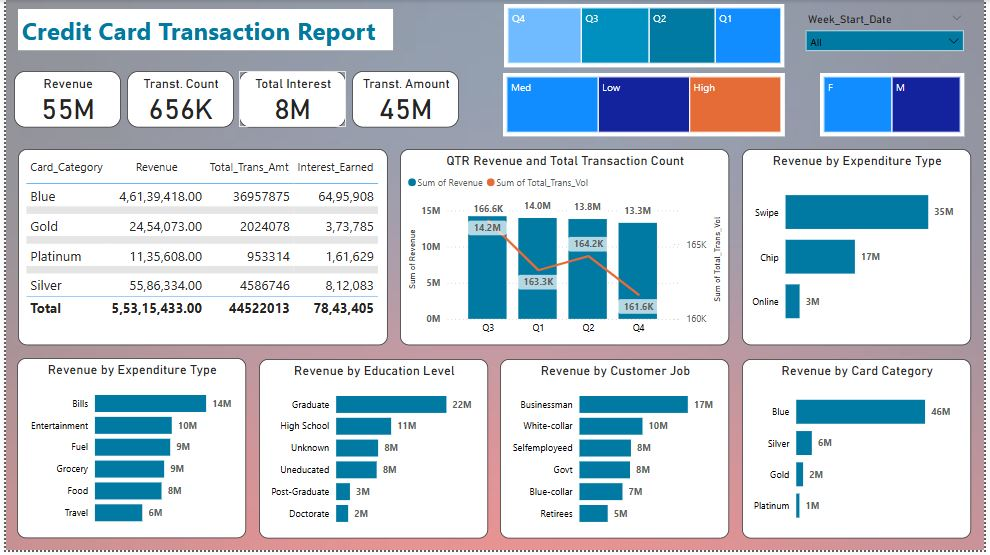

The dashboard page shown, as its layout file describes it:
{"tool":"powerbi","page":{"name":"CC_Transaction","canvas":[1280,720],"ordinal":0},"visuals":[{"type":"textbox","box":[15.1,12.4,491.4,53.7],"z":0},{"type":"lineStackedColumnComboChart","title":"QTR Revenue and Total Transaction Count","fields":{"Category":["public cc_detail.Qtr"],"Y":["Sum(public cc_detail.Revenue)"],"Y2":["Sum(public cc_detail.Total_Trans_Vol)"]},"box":[516.1,195.4,430.8,257.4],"z":1000},{"type":"barChart","title":"Revenue by Expenditure Type","fields":{"Category":["public cc_detail.Exp Type"],"Y":["Sum(public cc_detail.Revenue)"]},"box":[15,469.2,300,235.9],"z":2000},{"type":"barChart","title":"Revenue by Education Level","fields":{"Y":["Sum(public cc_detail.Revenue)"],"Category":["public cust_detail.Education_Level"]},"box":[331.1,469.3,300,235.4],"z":3000},{"type":"barChart","title":"Revenue by Customer Job","fields":{"Y":["Sum(public cc_detail.Revenue)"],"Category":["public cust_detail.Customer_Job"]},"box":[647.3,469.3,300,235.4],"z":4000},{"type":"barChart","title":"Revenue by Card Category","fields":{"Y":["Sum(public cc_detail.Revenue)"],"Category":["public cc_detail.Card_Category"]},"box":[963.4,469.3,300,235.4],"z":5000},{"type":"barChart","title":"Revenue by Expenditure Type","fields":{"Y":["Sum(public cc_detail.Revenue)"],"Category":["public cc_detail.Use Chip"]},"box":[963.4,195.4,300,257.4],"z":6000},{"type":"tableEx","fields":{"Values":["public cc_detail.Card_Category","Sum(public cc_detail.Revenue)","Sum(public cc_detail.Total_Trans_Amt)","Sum(public cc_detail.Interest_Earned)"]},"box":[15.1,195.4,484.5,257.4],"z":7000},{"type":"card","title":"Revenue","fields":{"Values":["Sum(public cc_detail.Revenue)"]},"box":[10.5,92.6,140,74],"z":8000},{"type":"card","title":"Total Interest","fields":{"Values":["Sum(public cc_detail.Interest_Earned)"]},"box":[305.4,92.6,140,74],"z":9000},{"type":"card","title":"Transt. Amount","fields":{"Values":["Sum(public cc_detail.Total_Trans_Amt)"]},"box":[452.8,92.6,140.4,74.3],"z":10000},{"type":"card","title":"Transt. Count","fields":{"Values":["Sum(public cc_detail.Total_Trans_Vol)"]},"box":[158,92.6,140,74],"z":11000},{"type":"slicer","fields":{"Values":["public cc_detail.Week_Start_Date"]},"box":[1036.6,12,226.9,70.6],"z":12000},{"type":"treemap","fields":{"Group":["public cc_detail.Qtr"],"Values":["Avg(public cc_detail.Client_Num)"]},"box":[652.4,5.5,367.5,82.6],"z":13000},{"type":"treemap","fields":{"Values":["Avg(public cc_detail.Client_Num)"],"Group":["public cust_detail.Gender"]},"box":[1065.3,95,188.6,82.6],"z":14000},{"type":"treemap","fields":{"Values":["Avg(public cc_detail.Client_Num)"],"Group":["public cust_detail.IncomeGroup"]},"box":[651,95,368.9,82.6],"z":15000}]}

Visuals, with their boxes in screenshot pixels (x1, y1, x2, y2), scaled from the page's 1280x720 canvas onto the 990x555 screenshot:
textbox: (12,10,392,51)
"QTR Revenue and Total Transaction Count" lineStackedColumnComboChart: (399,151,732,349)
"Revenue by Expenditure Type" barChart: (12,362,244,544)
"Revenue by Education Level" barChart: (256,362,488,543)
"Revenue by Customer Job" barChart: (501,362,733,543)
"Revenue by Card Category" barChart: (745,362,977,543)
"Revenue by Expenditure Type" barChart: (745,151,977,349)
tableEx - public cc_detail.Card_Category x Sum(public cc_detail.Revenue): (12,151,386,349)
"Revenue" card: (8,71,116,128)
"Total Interest" card: (236,71,344,128)
"Transt. Amount" card: (350,71,459,129)
"Transt. Count" card: (122,71,230,128)
slicer - public cc_detail.Week_Start_Date: (802,9,977,64)
treemap - public cc_detail.Qtr x Avg(public cc_detail.Client_Num): (505,4,789,68)
treemap - Avg(public cc_detail.Client_Num) x public cust_detail.Gender: (824,73,970,137)
treemap - Avg(public cc_detail.Client_Num) x public cust_detail.IncomeGroup: (504,73,789,137)
